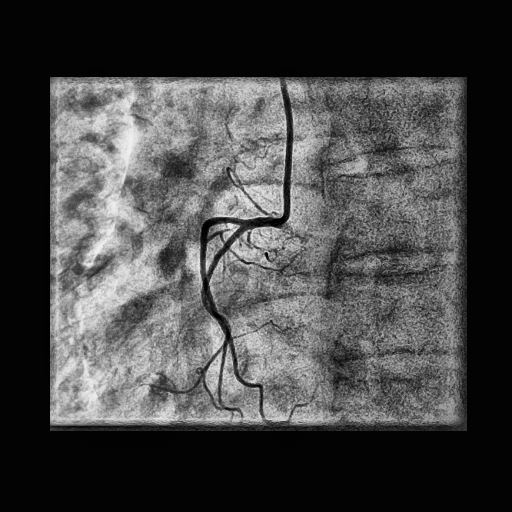rca: (201, 217, 276, 419)
